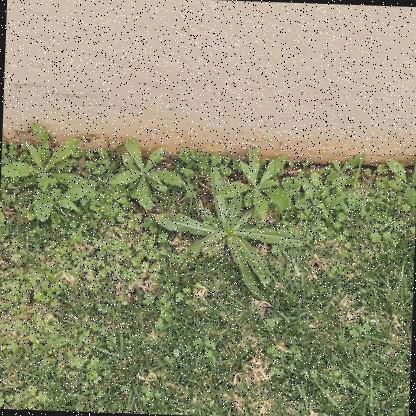Weeds: (153, 165, 309, 298), (0, 121, 103, 230), (216, 144, 294, 224), (106, 136, 186, 212), (383, 156, 415, 210)
